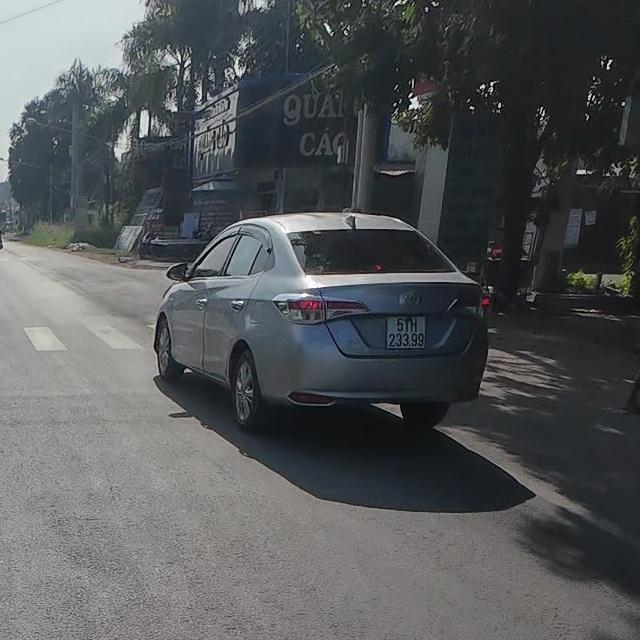license-plate: (385, 315, 427, 350)
